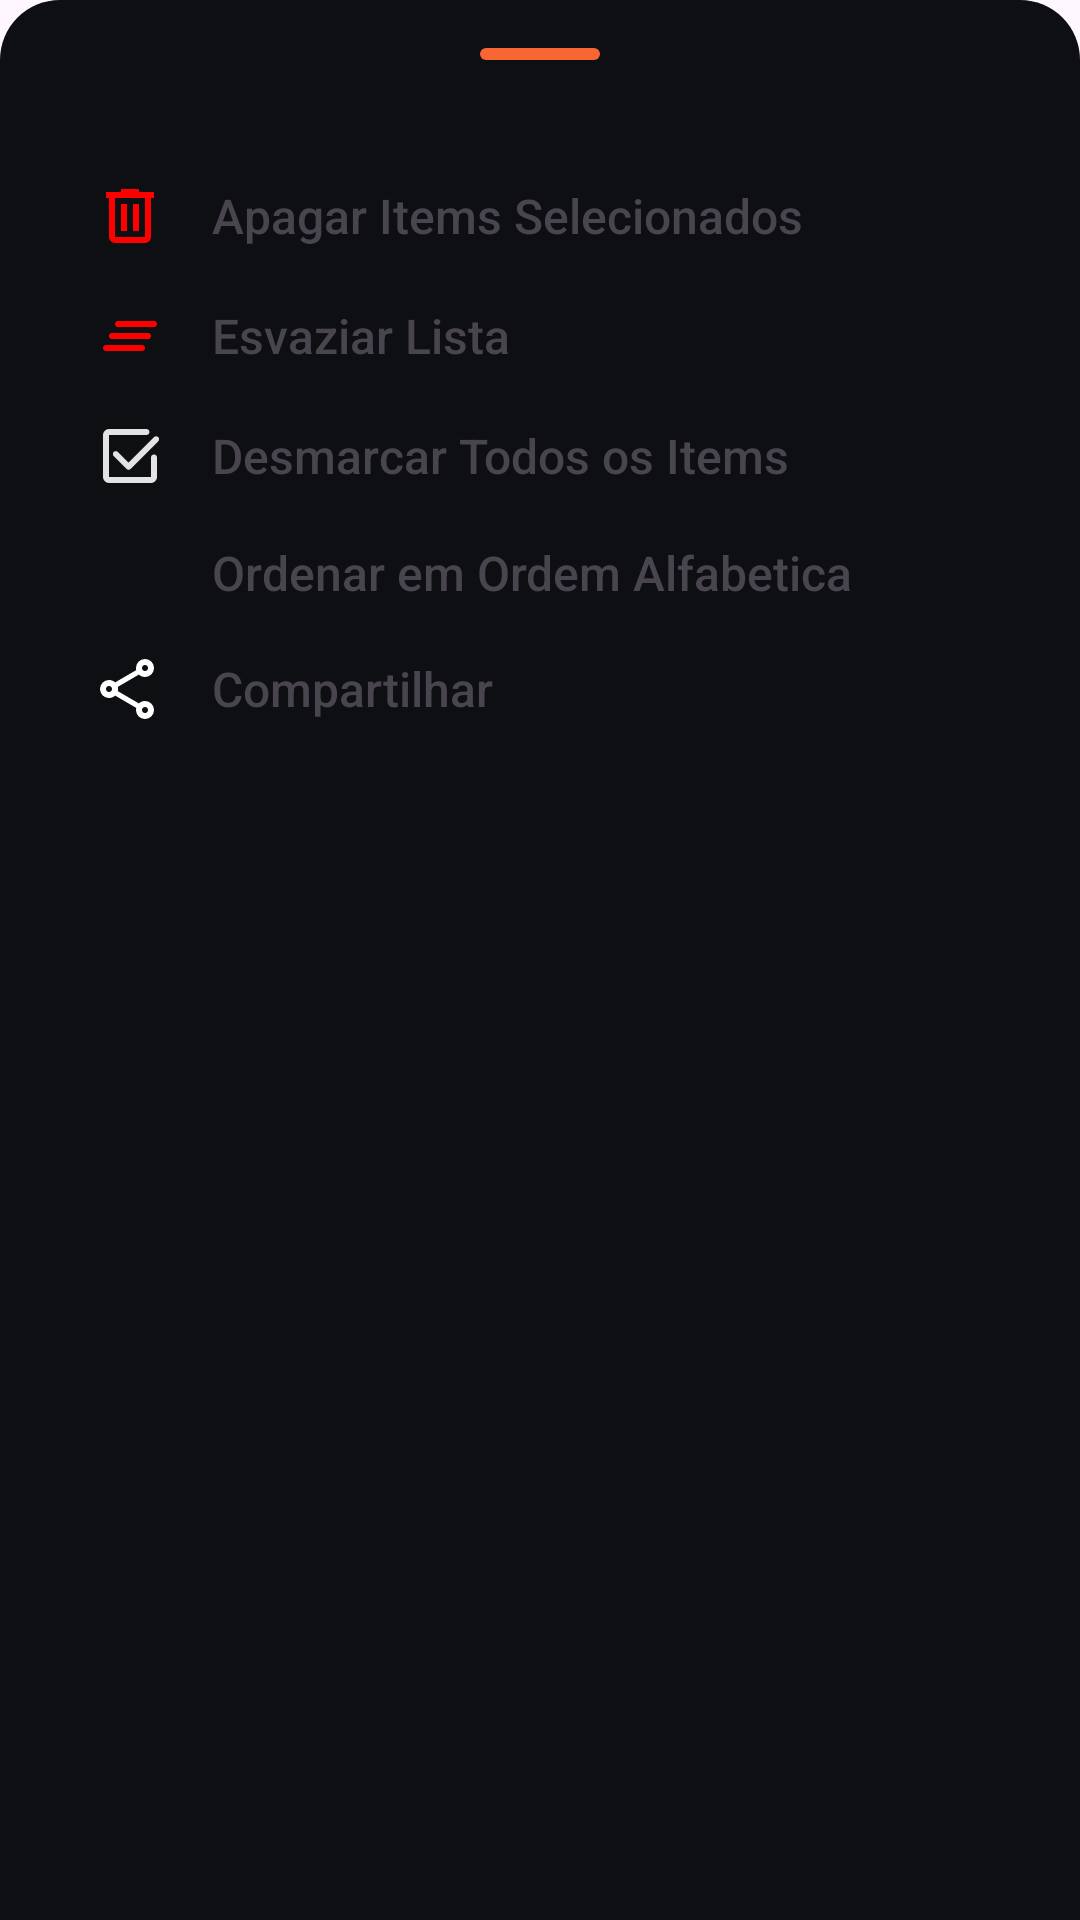

Icon click points for this 1080x1920 phone screenshot, format (x,y):
clear all: (130,336)
delete: (130,216)
select check box: (131,456)
share: (127,689)
